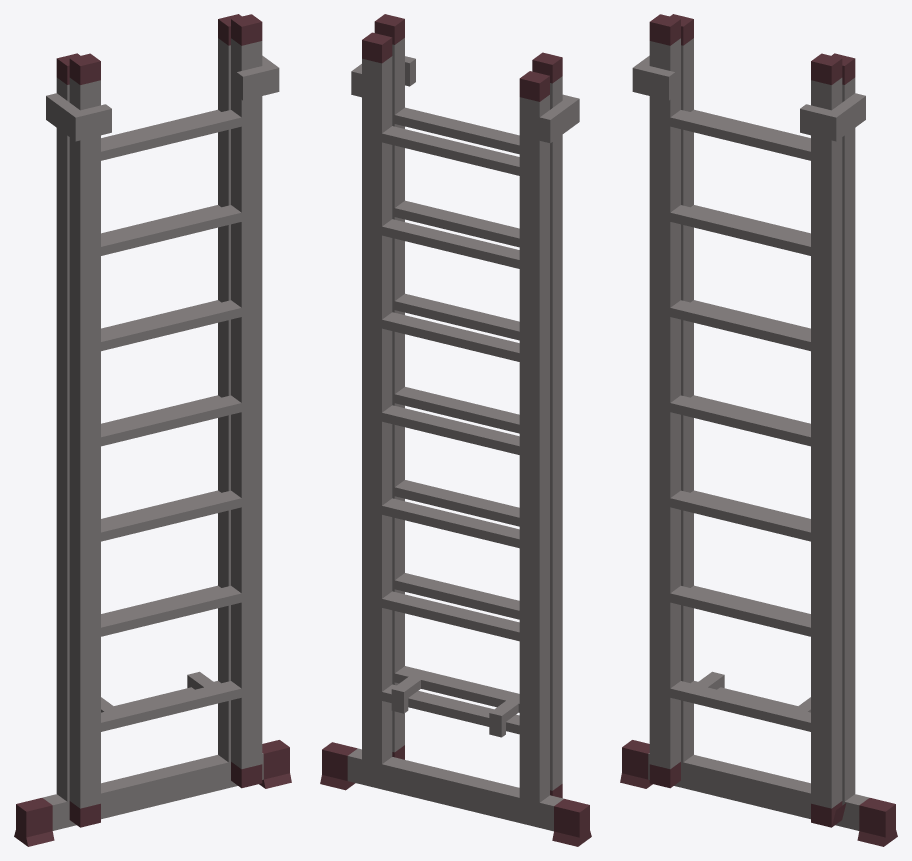
Rendered from ladder-modern.fbx.
3 renders of one model, left to right at view 1: azimuth 30°, elevation 25°; view 2: azimuth 150°, elevation 25°; view 3: azimuth 330°, elevation 25°, orthographic. The views are drawn at different scales.
Parts seen in each view (by area): view 1: ladder-modern-second, ladder-modern-base; view 2: ladder-modern-base, ladder-modern-second; view 3: ladder-modern-second, ladder-modern-base.
Part boxes in pixels (x1=…): ladder-modern-second: x1=69, y1=14, x2=262, y2=827; ladder-modern-base: x1=14, y1=14, x2=291, y2=846; ladder-modern-base: x1=320, y1=32, x2=591, y2=846; ladder-modern-second: x1=374, y1=14, x2=562, y2=798; ladder-modern-second: x1=649, y1=14, x2=846, y2=827; ladder-modern-base: x1=620, y1=14, x2=897, y2=846.
Bounding box in the file's own units: 0.725 × 2.05 × 0.162.
